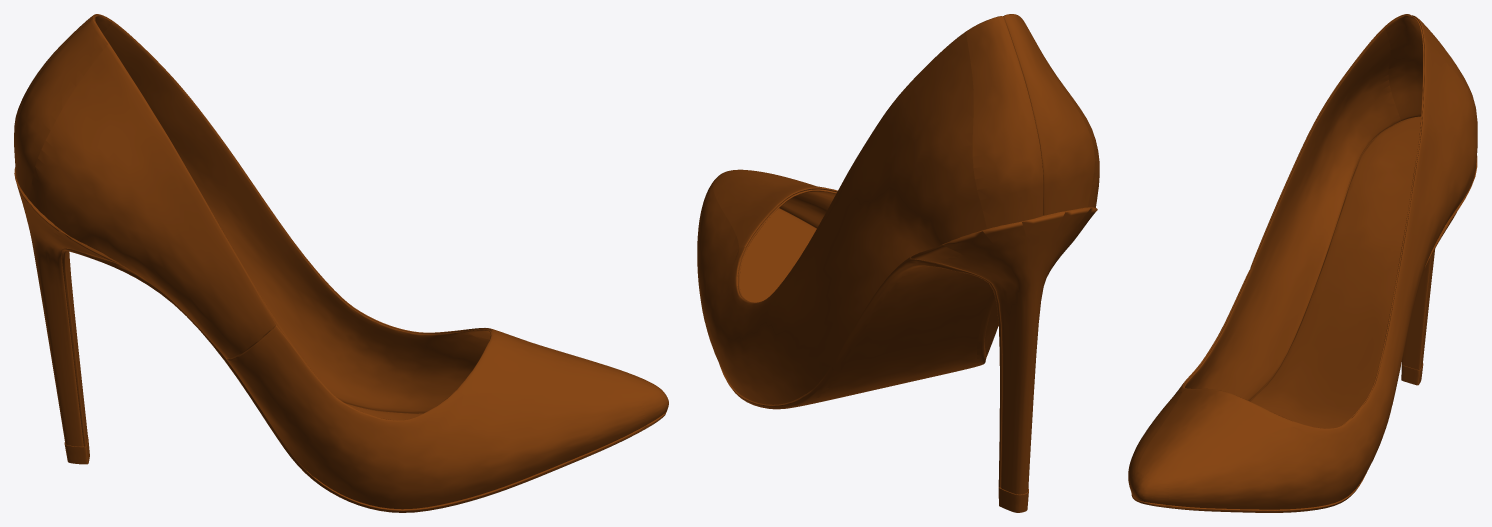
File: Demo-Newheel3-v1.glb
3 views of the same model, side by side, from view 1: azimuth 30°, elevation 25°; view 2: azimuth 150°, elevation 25°; view 3: azimuth 270°, elevation 25° (orthographic). The views are drawn at different scales.
Visible parts, largest first — view 1: Object_4; view 2: Object_4; view 3: Object_4.
Part boxes in pixels (<box>): Object_4: <box>14,14,668,512</box>; Object_4: <box>697,14,1099,512</box>; Object_4: <box>1128,14,1477,512</box>.
Bounding box in the file's own units: 10.62 × 9.2 × 7.82.
